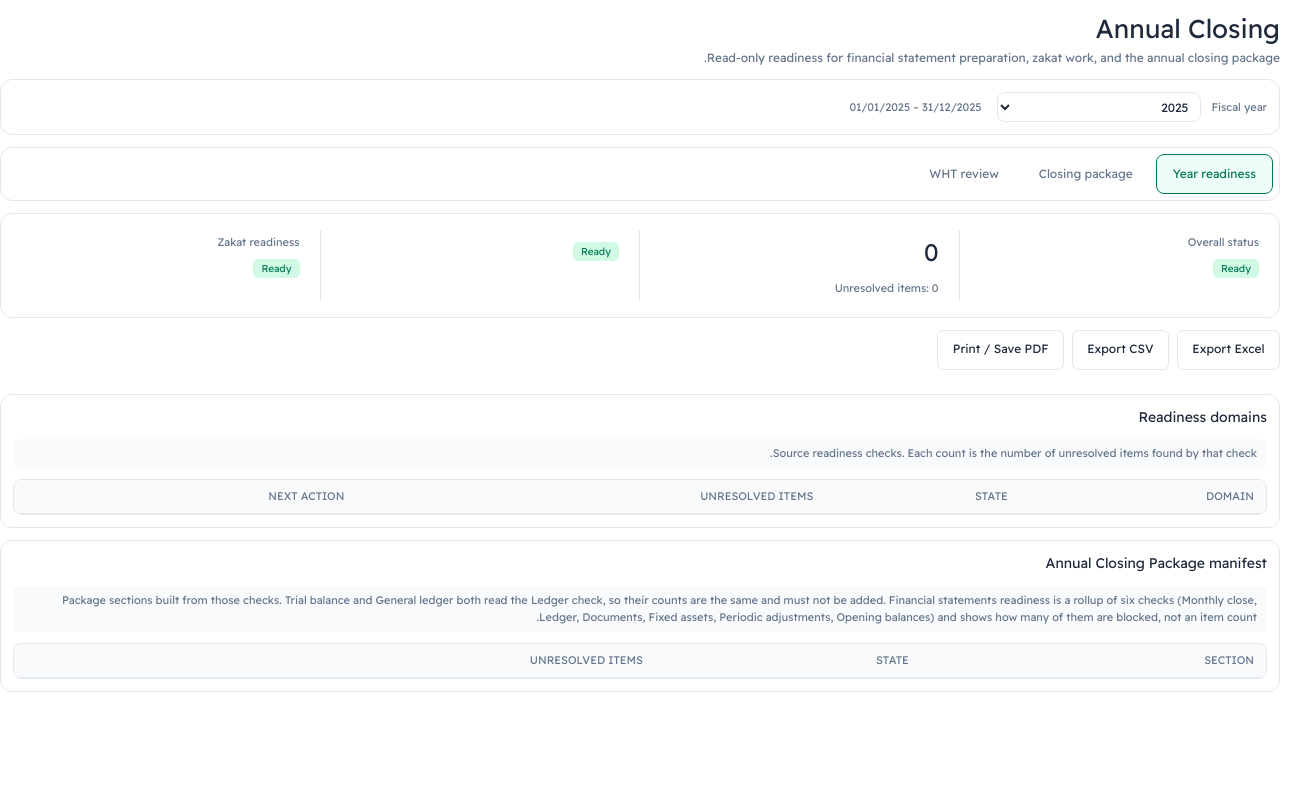
Test case: S2 package tab: versions flow from the snapshot manifest to the screen › reads pre_cutover_history.summary of the latest snapshot
The image size is (1292, 812).
What coordinates should you click on to do the following:
click the tab "Closing package"
I would click on:
 (1086, 174)
Its box is [1022, 154, 1150, 194].
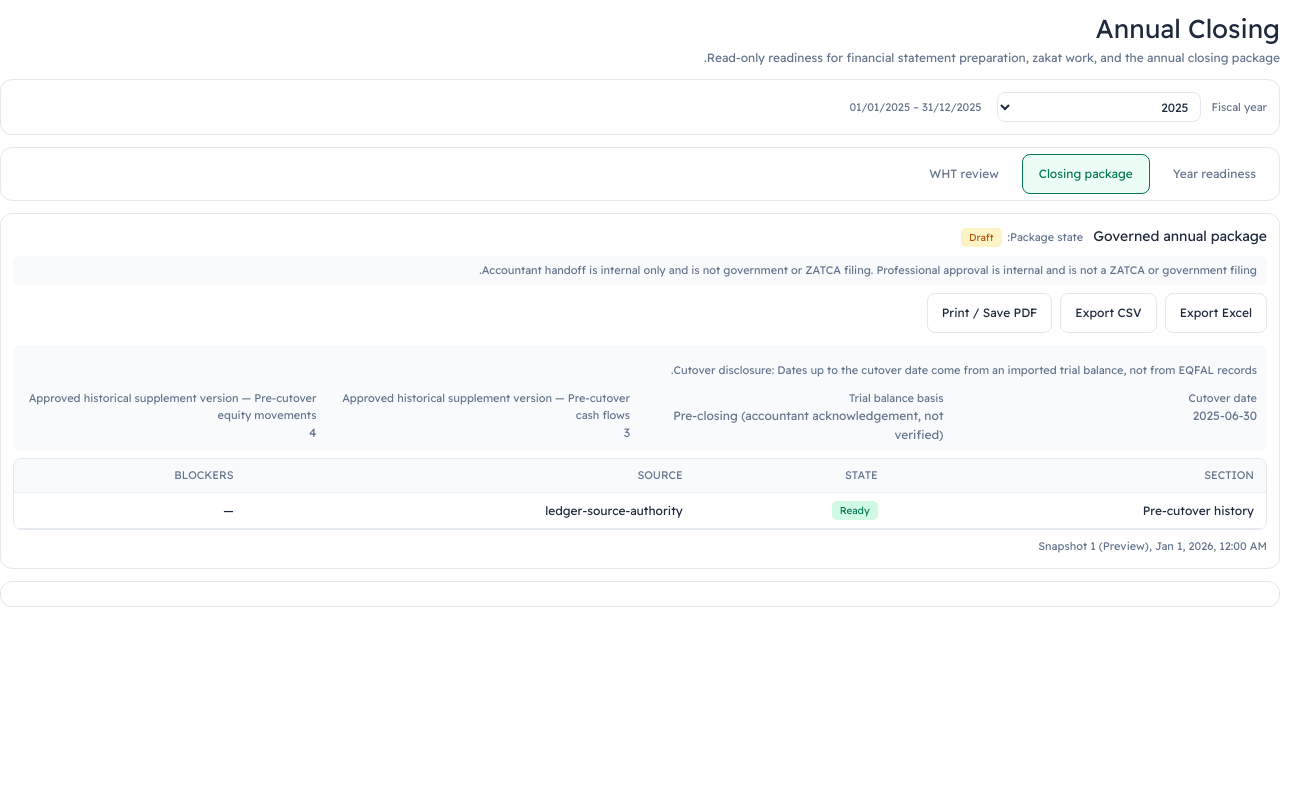
Now the element "Cutover disclosure" shows "2025-06-30", box [1193, 408, 1257, 423]
